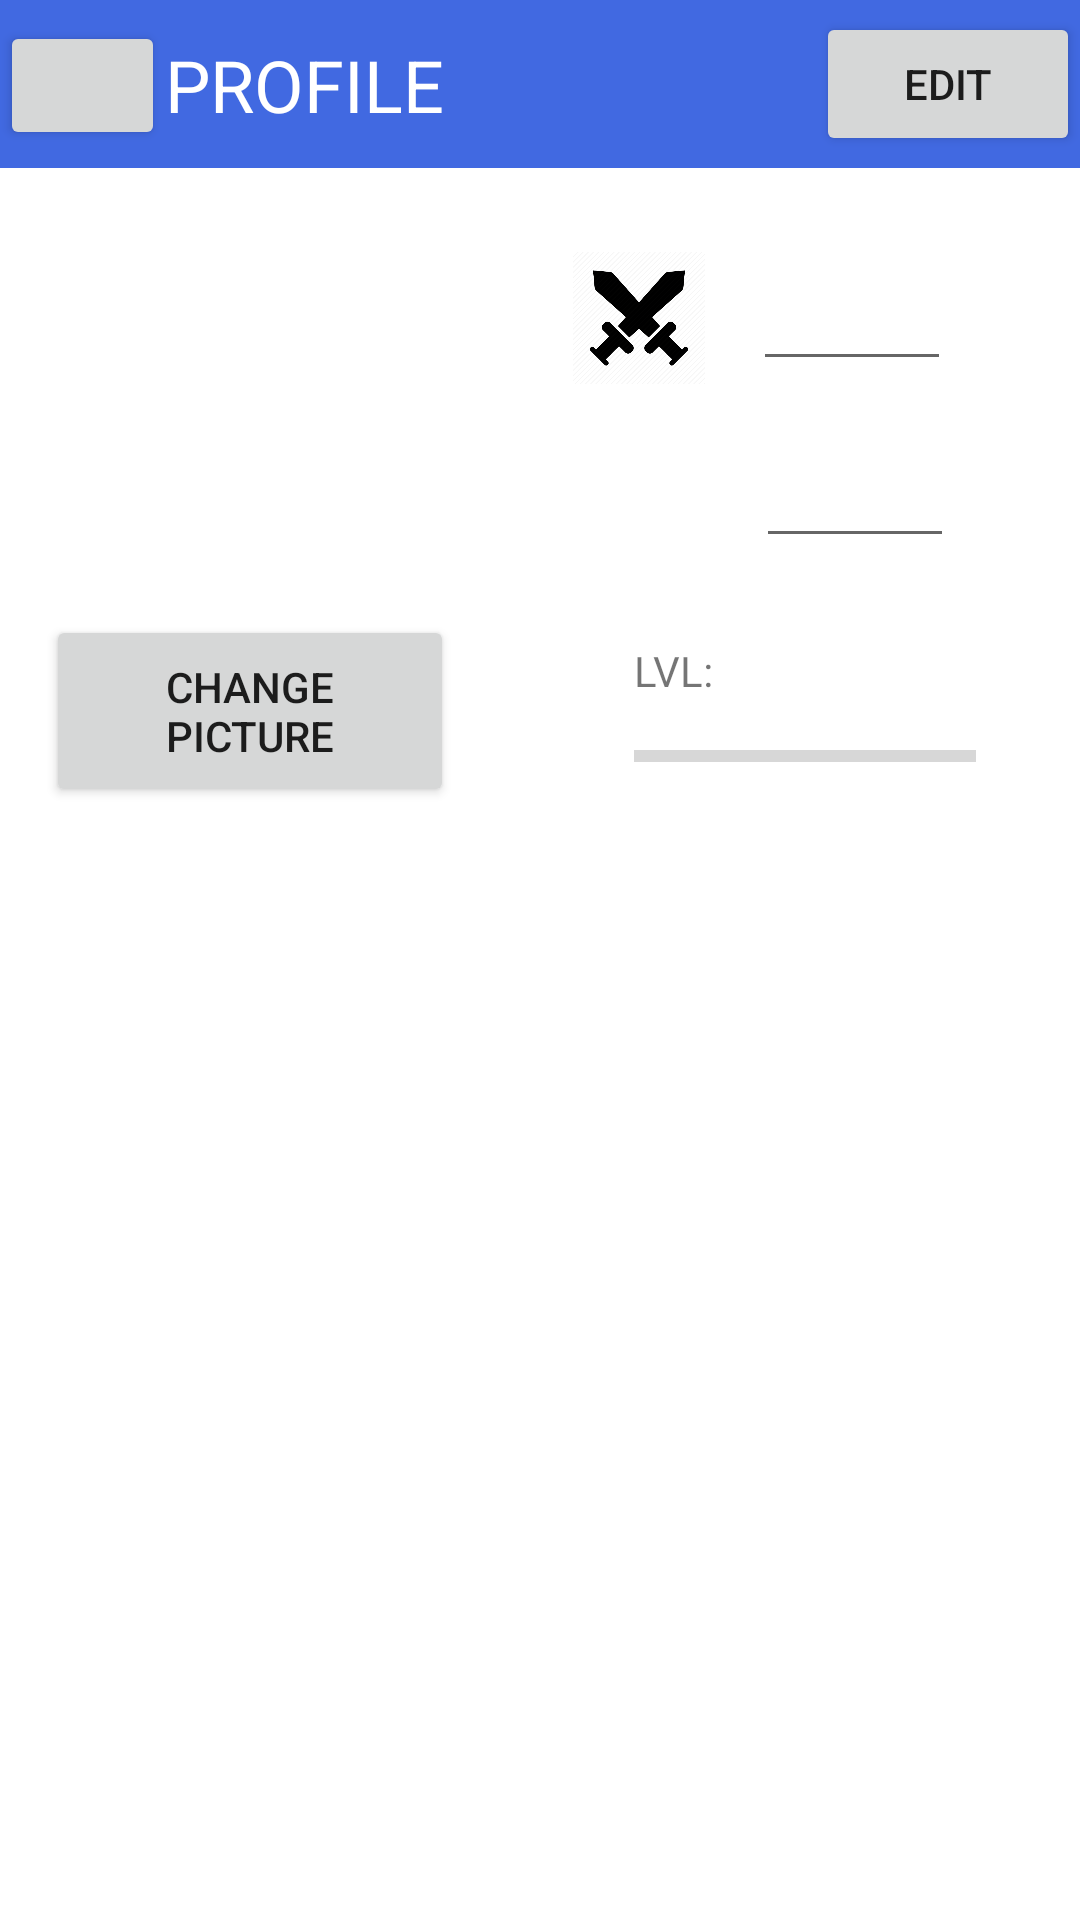

Screen size 1080w x 1920h. Icon name, then its box in pixels as (left=x1, top=y1, right=x2, bottom=y2):
swords: (left=590, top=270, right=688, bottom=366)
